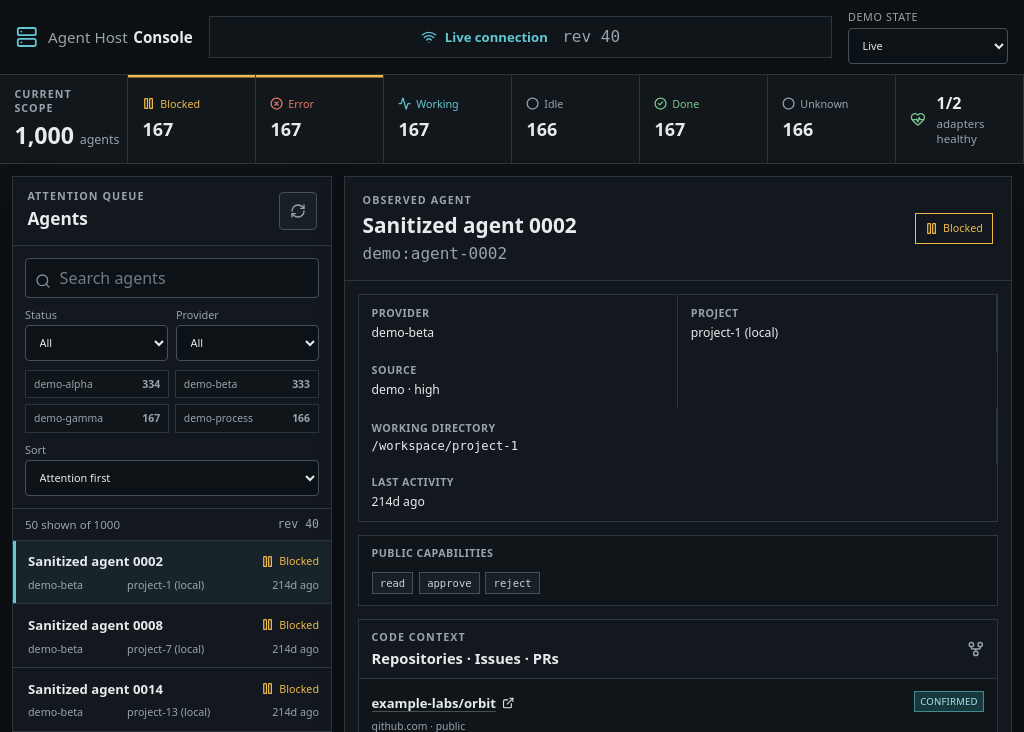
it: evaluation dashboard › clears the previous agent detail and repository while the next detail is pending
Expected: the link "example-labs/orbit" is shown, [372,691,514,715]
Click the button "Sanitized agent". click: {"x": 95, "y": 625}
box: [13,604,331,667]
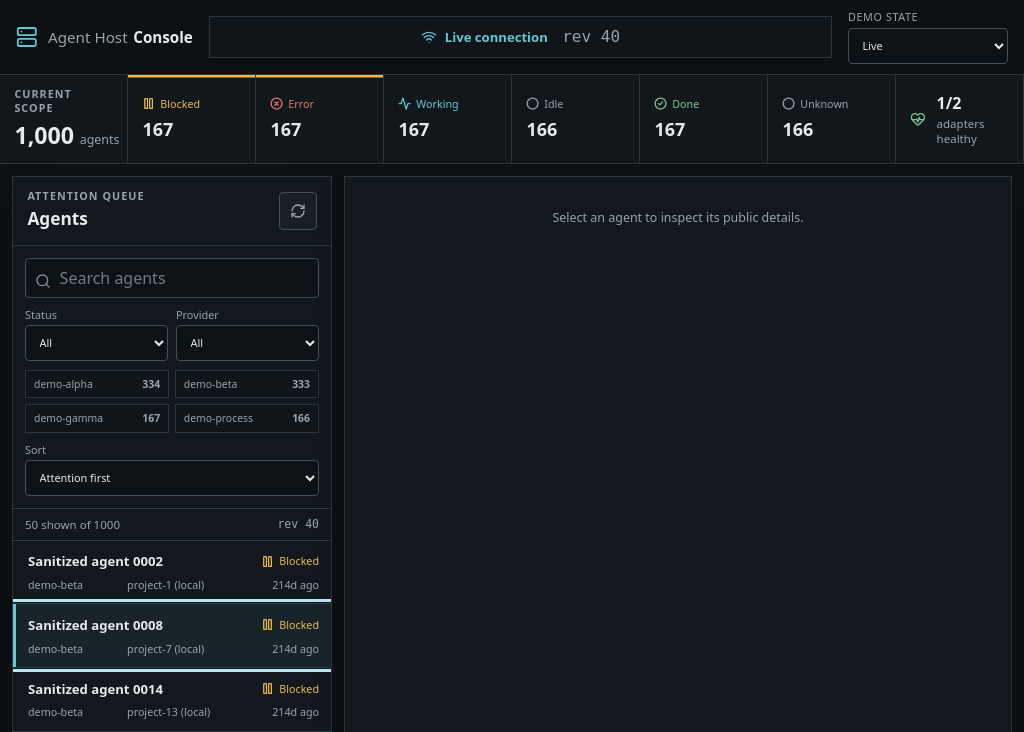
Now the link "example-labs/orbit" is gone
Now the text "Select an agent to inspect its public details." is shown, box [552,209,804,226]
